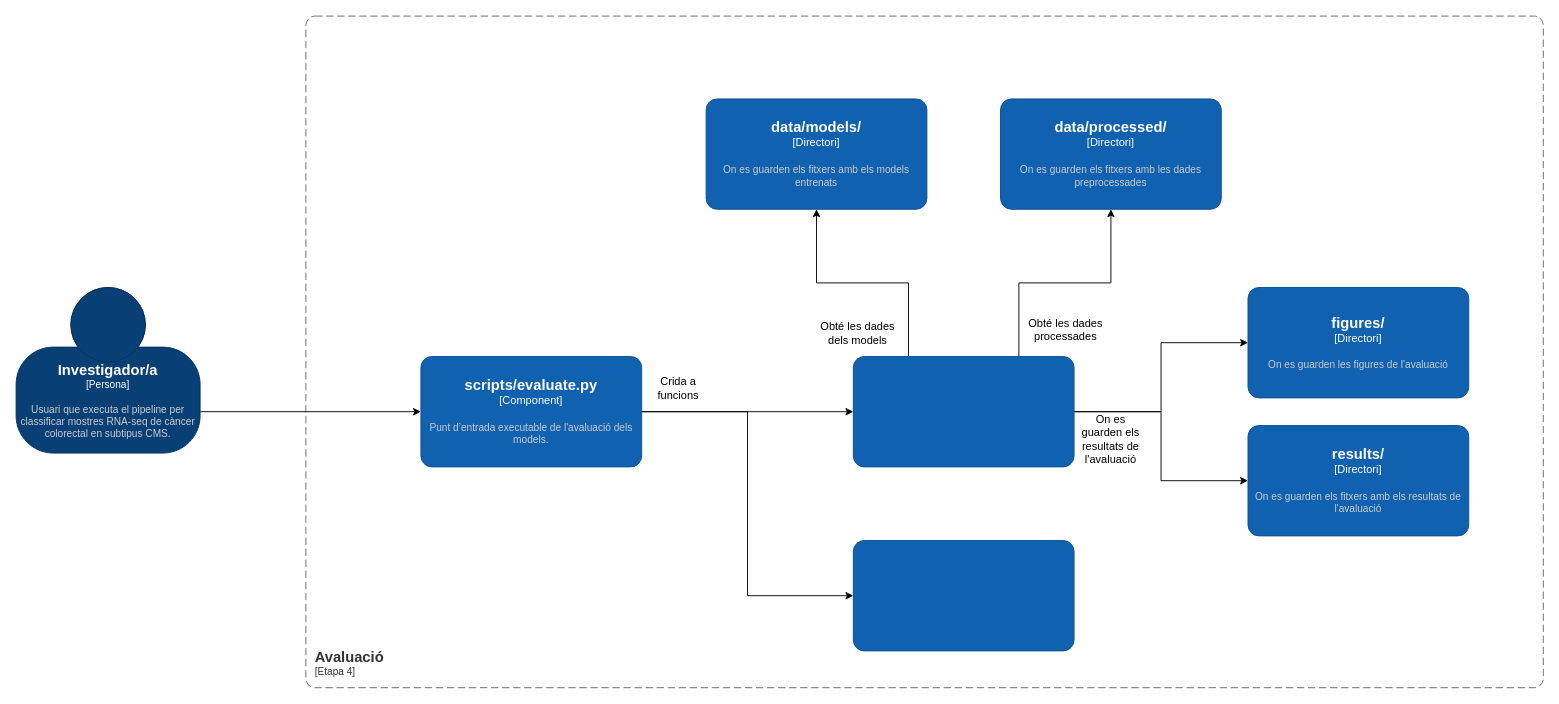
Image size: 1559x704. Some labels were removed from this diagram. The centre of each missing label's shape, as x and y in pixels:
src/evaluation.py [Component] Llibreria de funcions reutilitzables: pixel 963 411
src/models.py [Component] Llibreria de funcions reutilitzables: pixel 963 595
